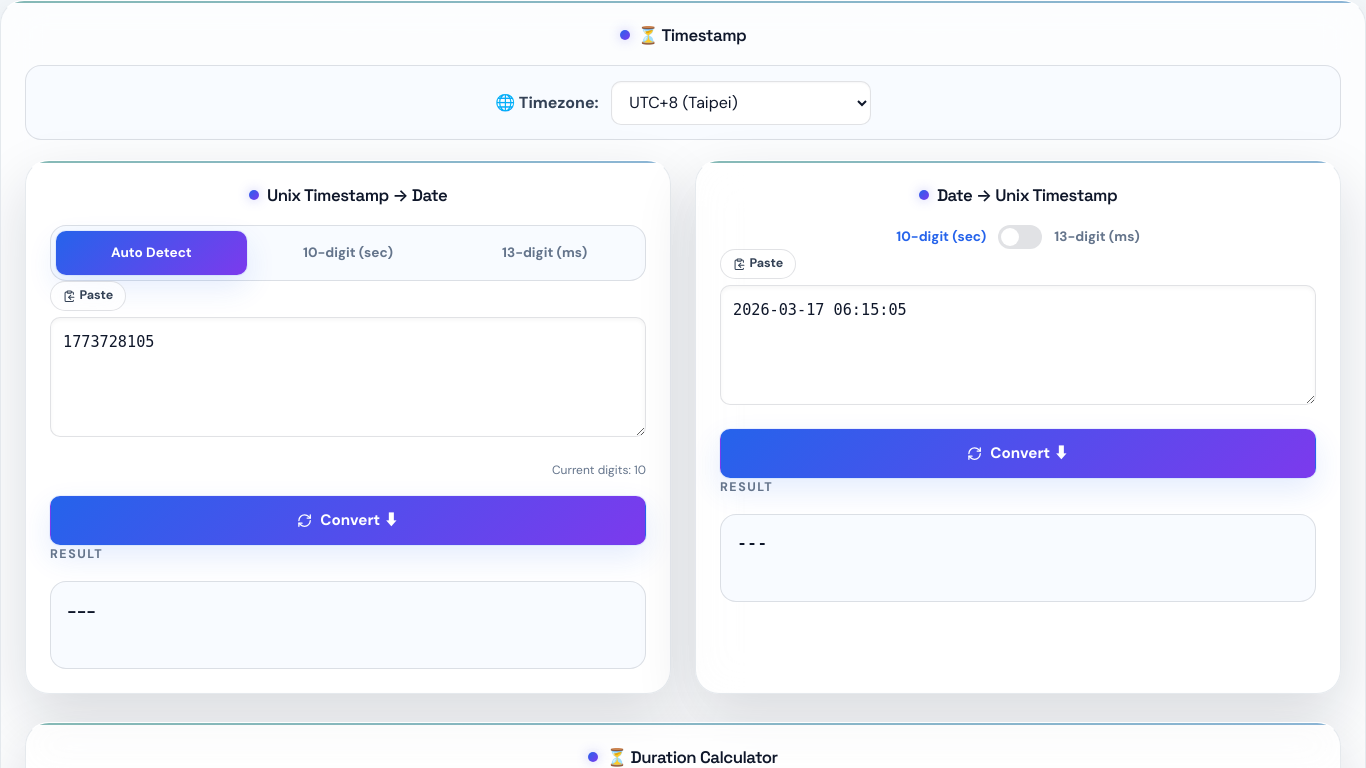
Test case: TimestampConverter.vue › 輸入驗證與邊際情況 › 應過濾非數字字元 (保留開頭負號)
The image size is (1366, 768).
Replace the text in the text box with id "timestamp-input" with "abc123def-456" at (348, 377), box [50,317,646,437]
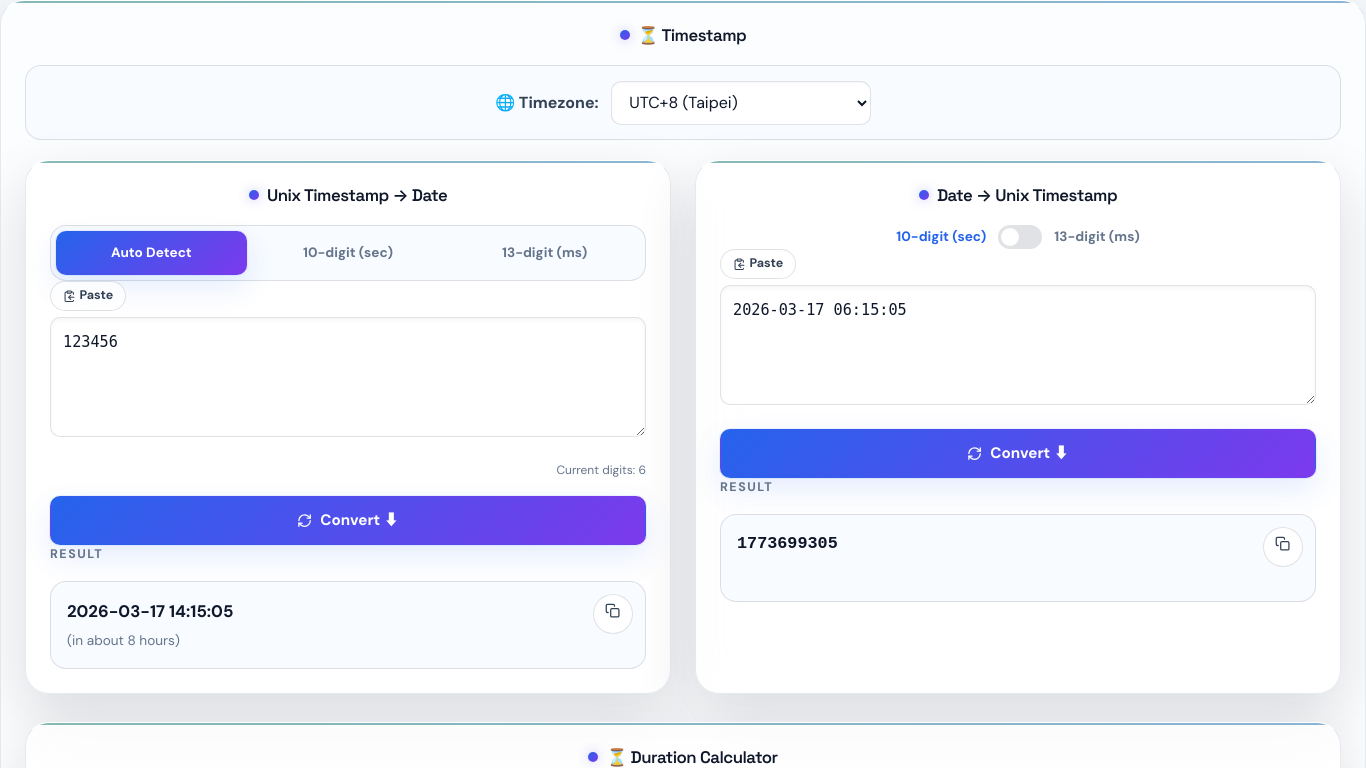
Expected: the text box with id "timestamp-input" holds "123456"
Replace the text in the text box with id "timestamp-input" with "-123ab" at (348, 377), box [50,317,646,437]
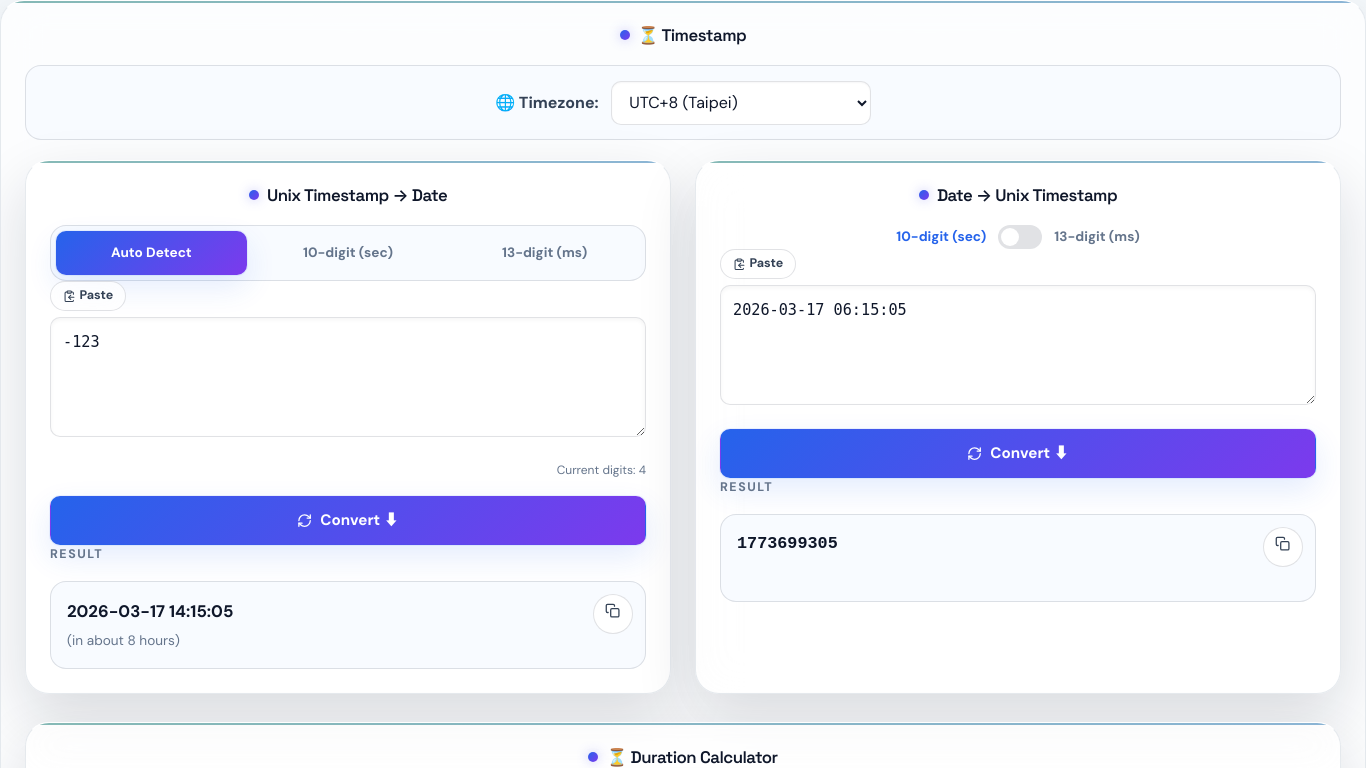
Expected: the text box with id "timestamp-input" holds "-123", [50,317,646,437]
